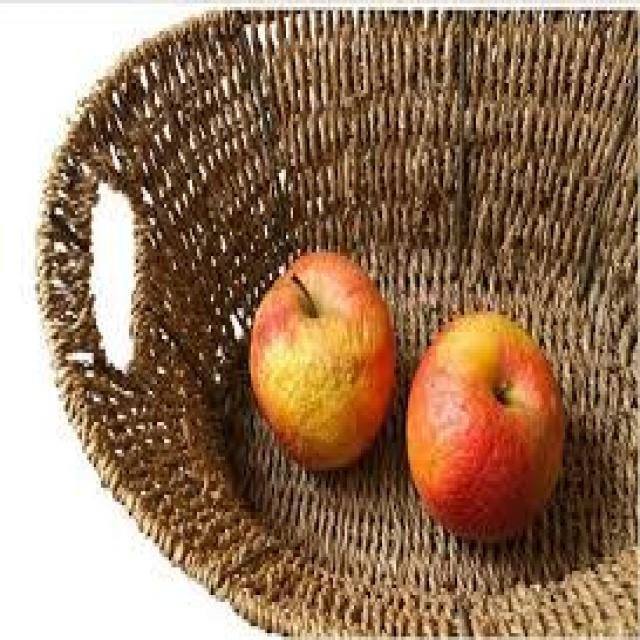organic waste: (403, 308, 563, 543), (246, 249, 394, 474)
